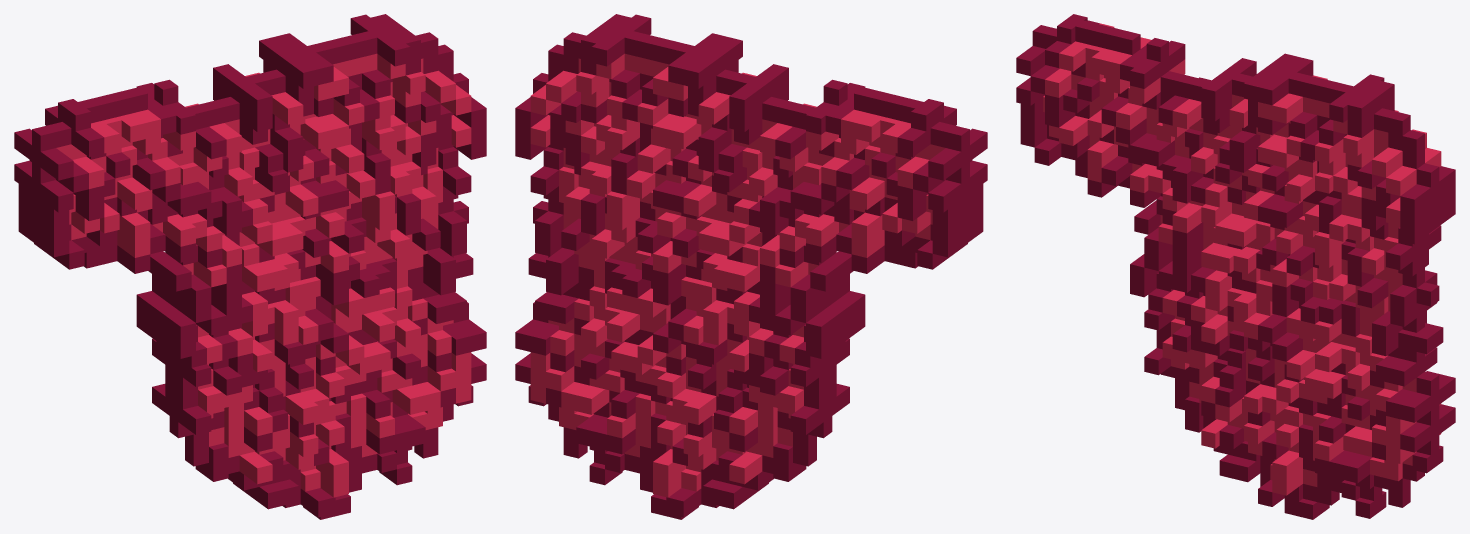
File: Enemy Cruiser.fbx
3 renders of one model, left to right at view 1: azimuth 30°, elevation 25°; view 2: azimuth 150°, elevation 25°; view 3: azimuth 330°, elevation 25°, orthographic. The views are drawn at different scales.
Parts seen in each view (by area): view 1: generated; view 2: generated; view 3: generated.
Boxes of the visible parts, x1=… form: generated: x1=14, y1=14, x2=486, y2=519; generated: x1=515, y1=14, x2=987, y2=519; generated: x1=1016, y1=14, x2=1455, y2=519.
Bounding box in the file's own units: 280 × 290 × 50.
